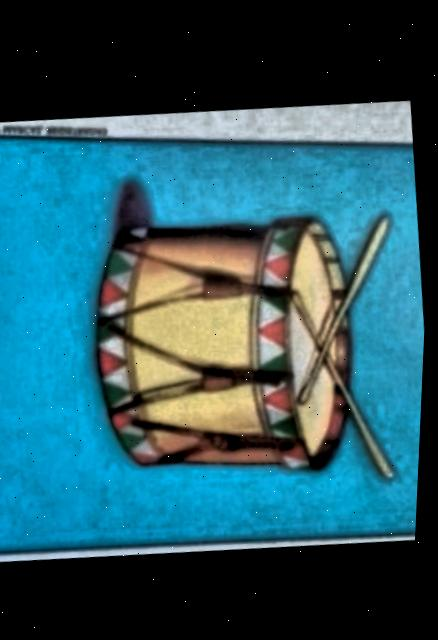El Tambor: (0, 136, 427, 551)
